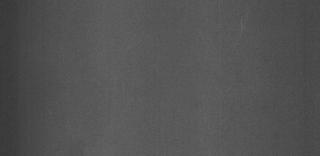silk spot: (230, 5, 260, 37)
